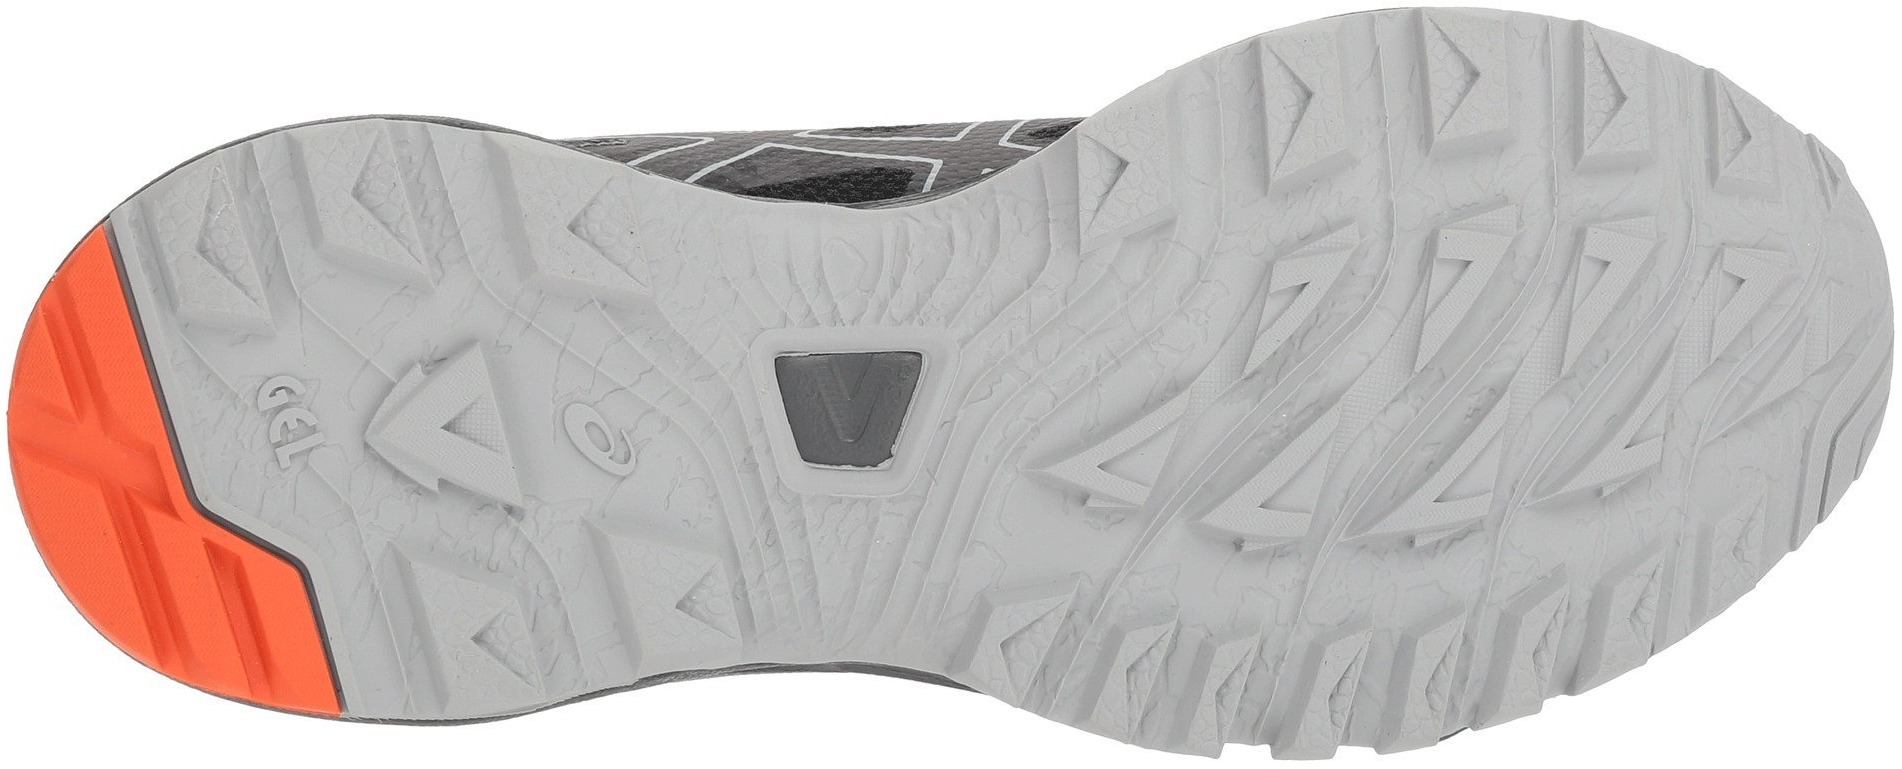exclude: (138, 0, 1093, 211), (186, 660, 1009, 767)
line: (972, 264, 1126, 409), (713, 505, 862, 642)
quad: (132, 190, 300, 344), (386, 531, 549, 685), (1241, 24, 1388, 193), (768, 330, 930, 482), (507, 182, 653, 327), (1451, 563, 1588, 701), (1080, 596, 1215, 731), (1548, 49, 1672, 170)
text: (220, 368, 338, 482)
triangle: (1373, 222, 1695, 524), (344, 338, 533, 517), (1194, 391, 1377, 559)
